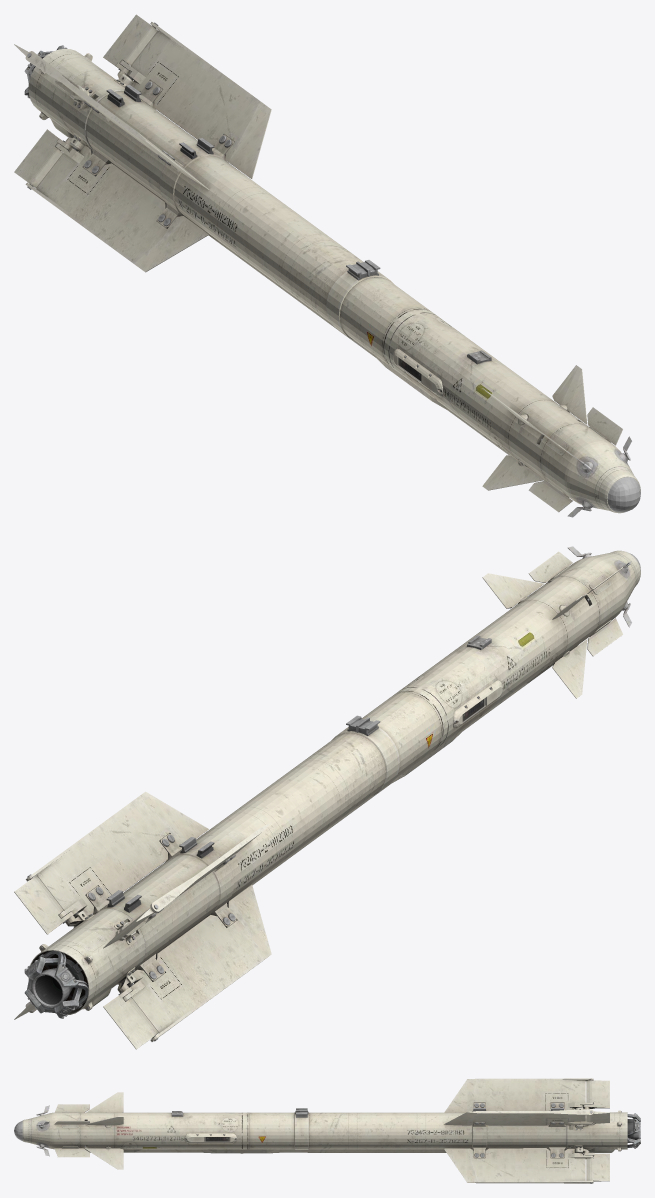
3 views of the same model, one above another, from view 1: azimuth 30°, elevation 25°; view 2: azimuth 150°, elevation 25°; view 3: azimuth 270°, elevation 25° (orthographic). The views are drawn at different scales.
Parts seen in each view (by area): view 1: su_r_73#@root_244; view 2: su_r_73#@root_244; view 3: su_r_73#@root_244.
Boxes of the visible parts, x1=… form: su_r_73#@root_244: x1=14, y1=14, x2=640, y2=517; su_r_73#@root_244: x1=14, y1=546, x2=640, y2=1049; su_r_73#@root_244: x1=14, y1=1078, x2=640, y2=1183.
Bounding box in the file's own units: 37.96 × 37.96 × 290.
